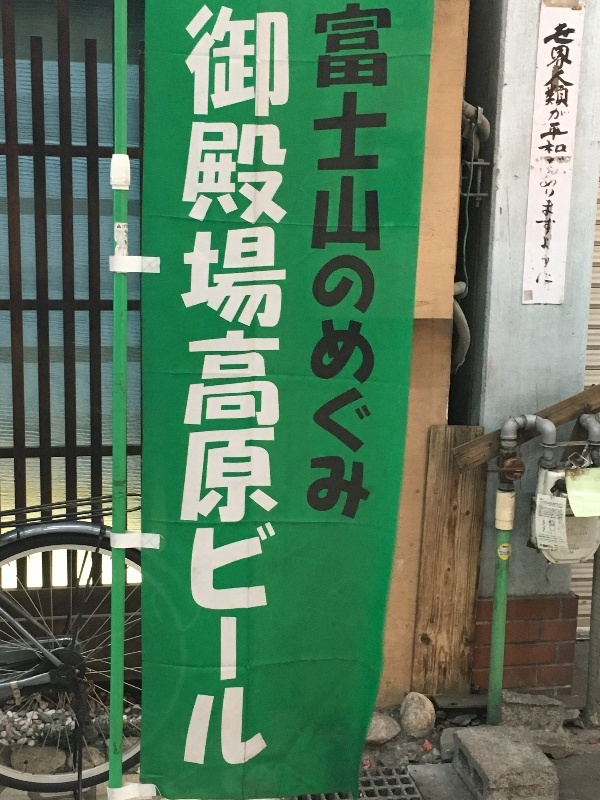text: (193, 5, 208, 772), (209, 5, 224, 772), (225, 5, 240, 772), (241, 5, 256, 772), (257, 5, 272, 772), (273, 5, 288, 772), (181, 5, 192, 772), (321, 5, 336, 522), (337, 5, 352, 522), (353, 5, 368, 522), (369, 5, 384, 522), (289, 5, 297, 772), (385, 5, 393, 522), (561, 18, 576, 291), (546, 18, 560, 291), (315, 5, 320, 522)
